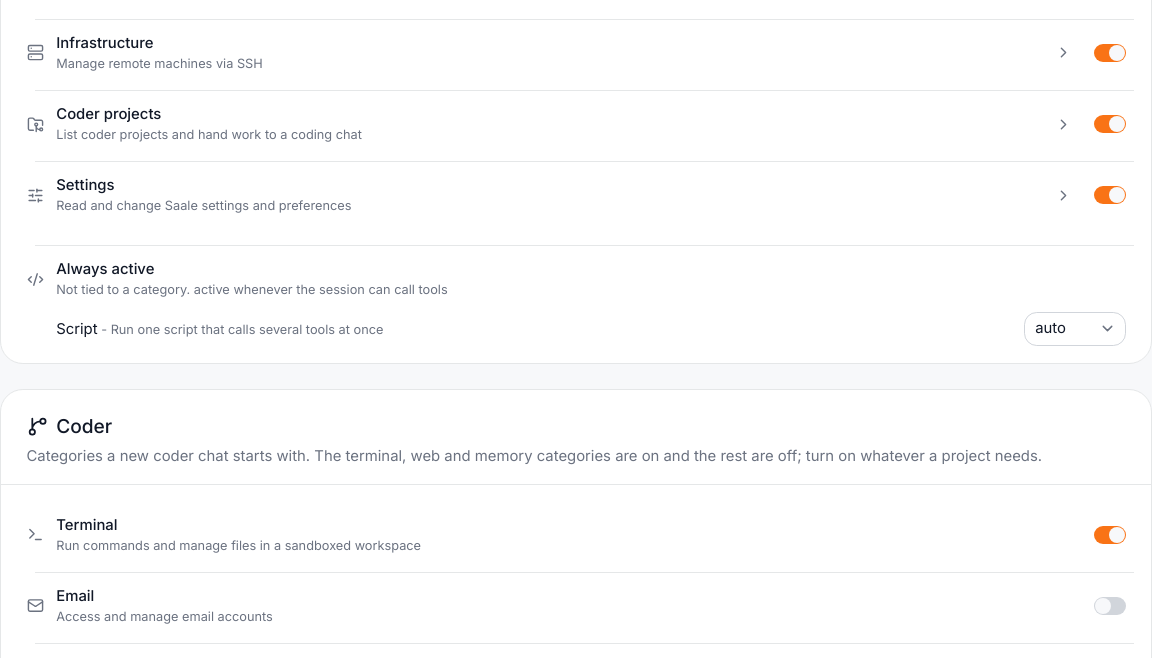
Tools always-active tools › lists the codemode policy outside the categories, and offers Auto for it
(page scrolled)
Expected: the text "Always active" is shown, [56, 260, 154, 278]
Expected: the text "Script" is shown, [56, 320, 98, 338]
Step 1. Click the dropdown → [1074, 329], box [1024, 312, 1126, 346]
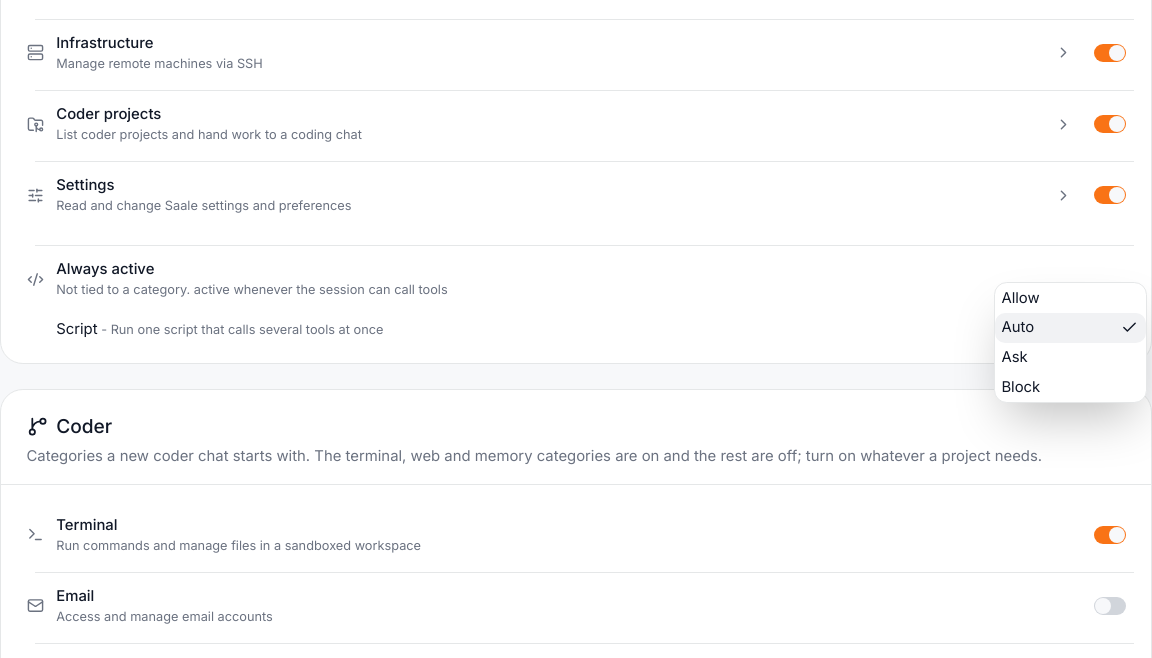
Expected: the text "Auto" is shown, [1001, 318, 1034, 336]
